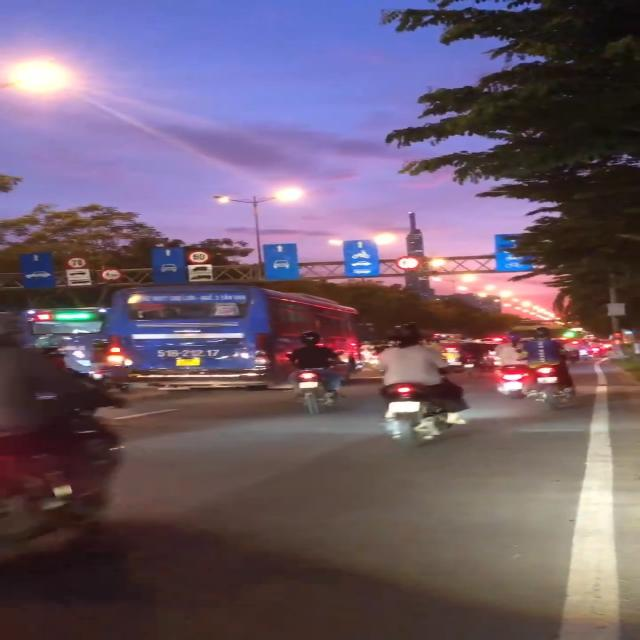Bien bao toc do toi da cho phep: (185, 249, 213, 266), (64, 256, 90, 270)
